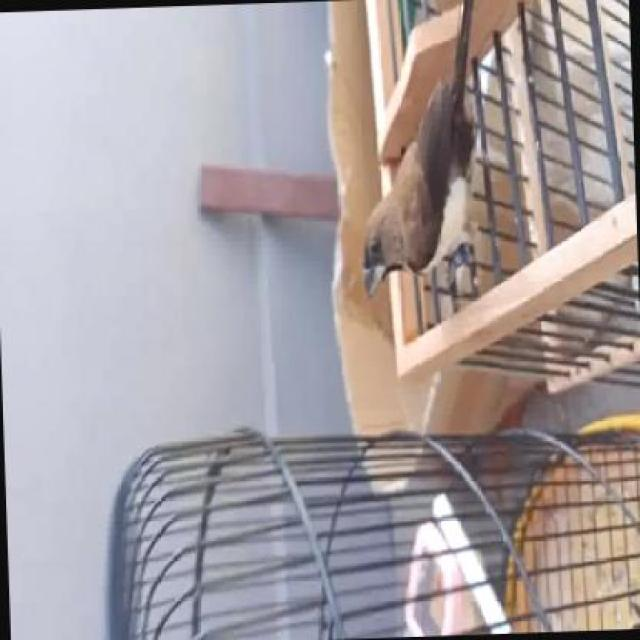Bird: (360, 4, 483, 302)
